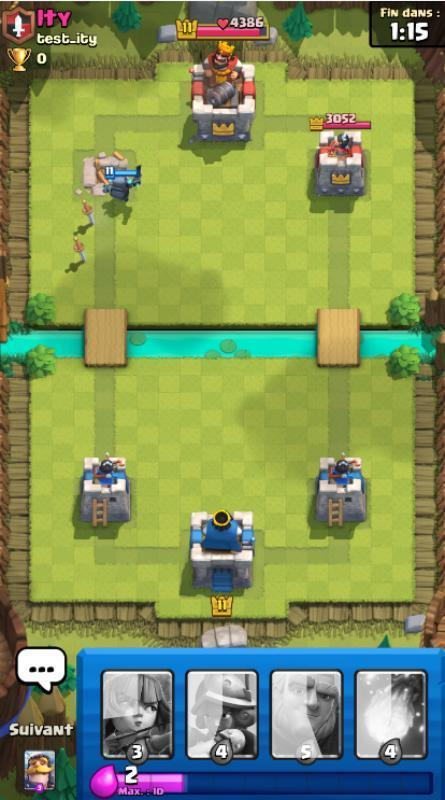player_mini_pekka: (92, 158, 151, 203)
